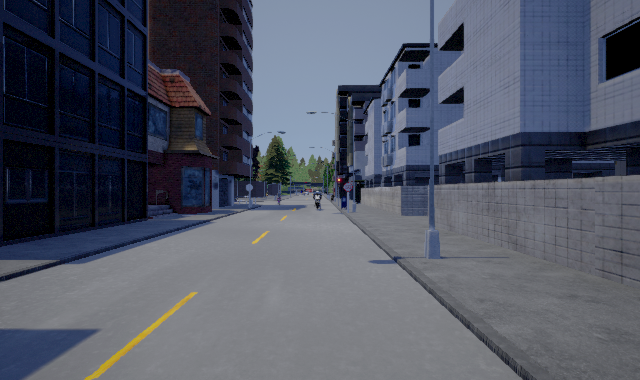traffic_light: (337, 177, 340, 189)
traffic_sign: (343, 182, 353, 192)
